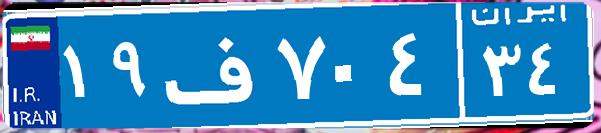0: (330, 28, 385, 110)
1: (57, 26, 110, 107)
3: (475, 38, 525, 113)
4: (385, 28, 445, 110), (525, 38, 570, 115)
7: (273, 28, 330, 110)
9: (110, 28, 158, 105)
ف: (158, 15, 273, 115)
